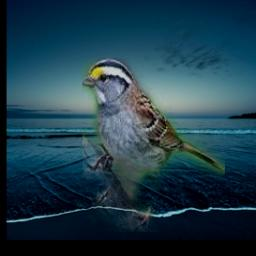Sparrow: (81, 59, 224, 233)
